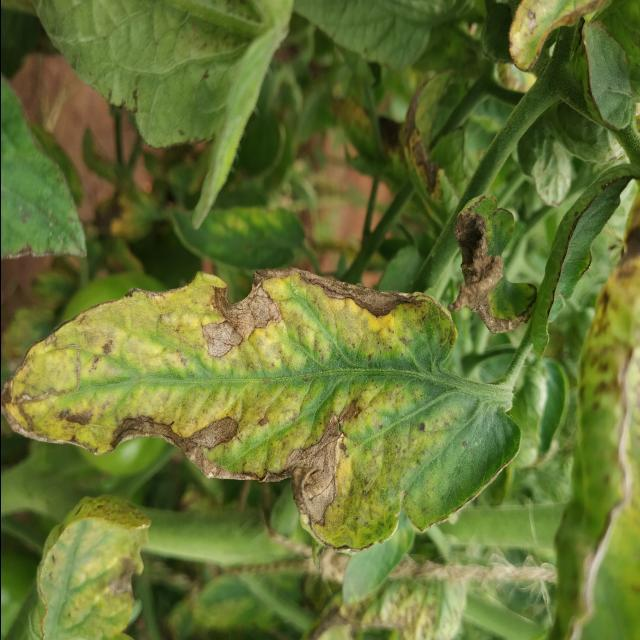Tomato mosaic virus leaf: (1, 263, 451, 558), (443, 190, 539, 338)
